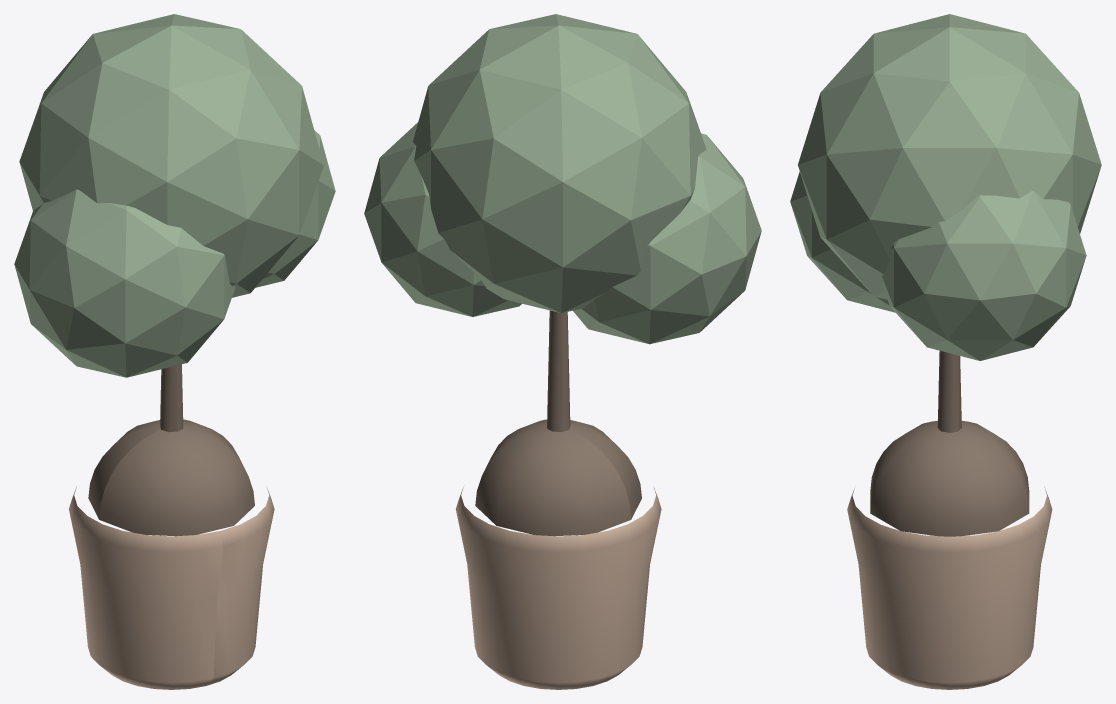
The model's file is mdl-plant-potted.96aa11c9.glb.
The picture shows the model from 3 angles, left to right: view 1: azimuth 30°, elevation 25°; view 2: azimuth 150°, elevation 25°; view 3: azimuth 270°, elevation 25°; orthographic projection.
Parts seen in each view (by area): view 1: plant; view 2: plant; view 3: plant.
Part boxes in pixels (x1,y1,x2,y2): plant: (14, 14, 335, 689); plant: (364, 14, 761, 689); plant: (790, 14, 1101, 689).
Bounding box in the file's own units: 0.5001 × 0.92 × 0.41.
